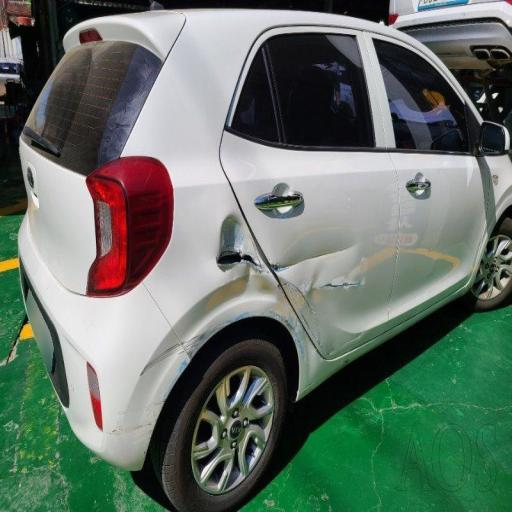broken: (202, 188, 400, 356)
